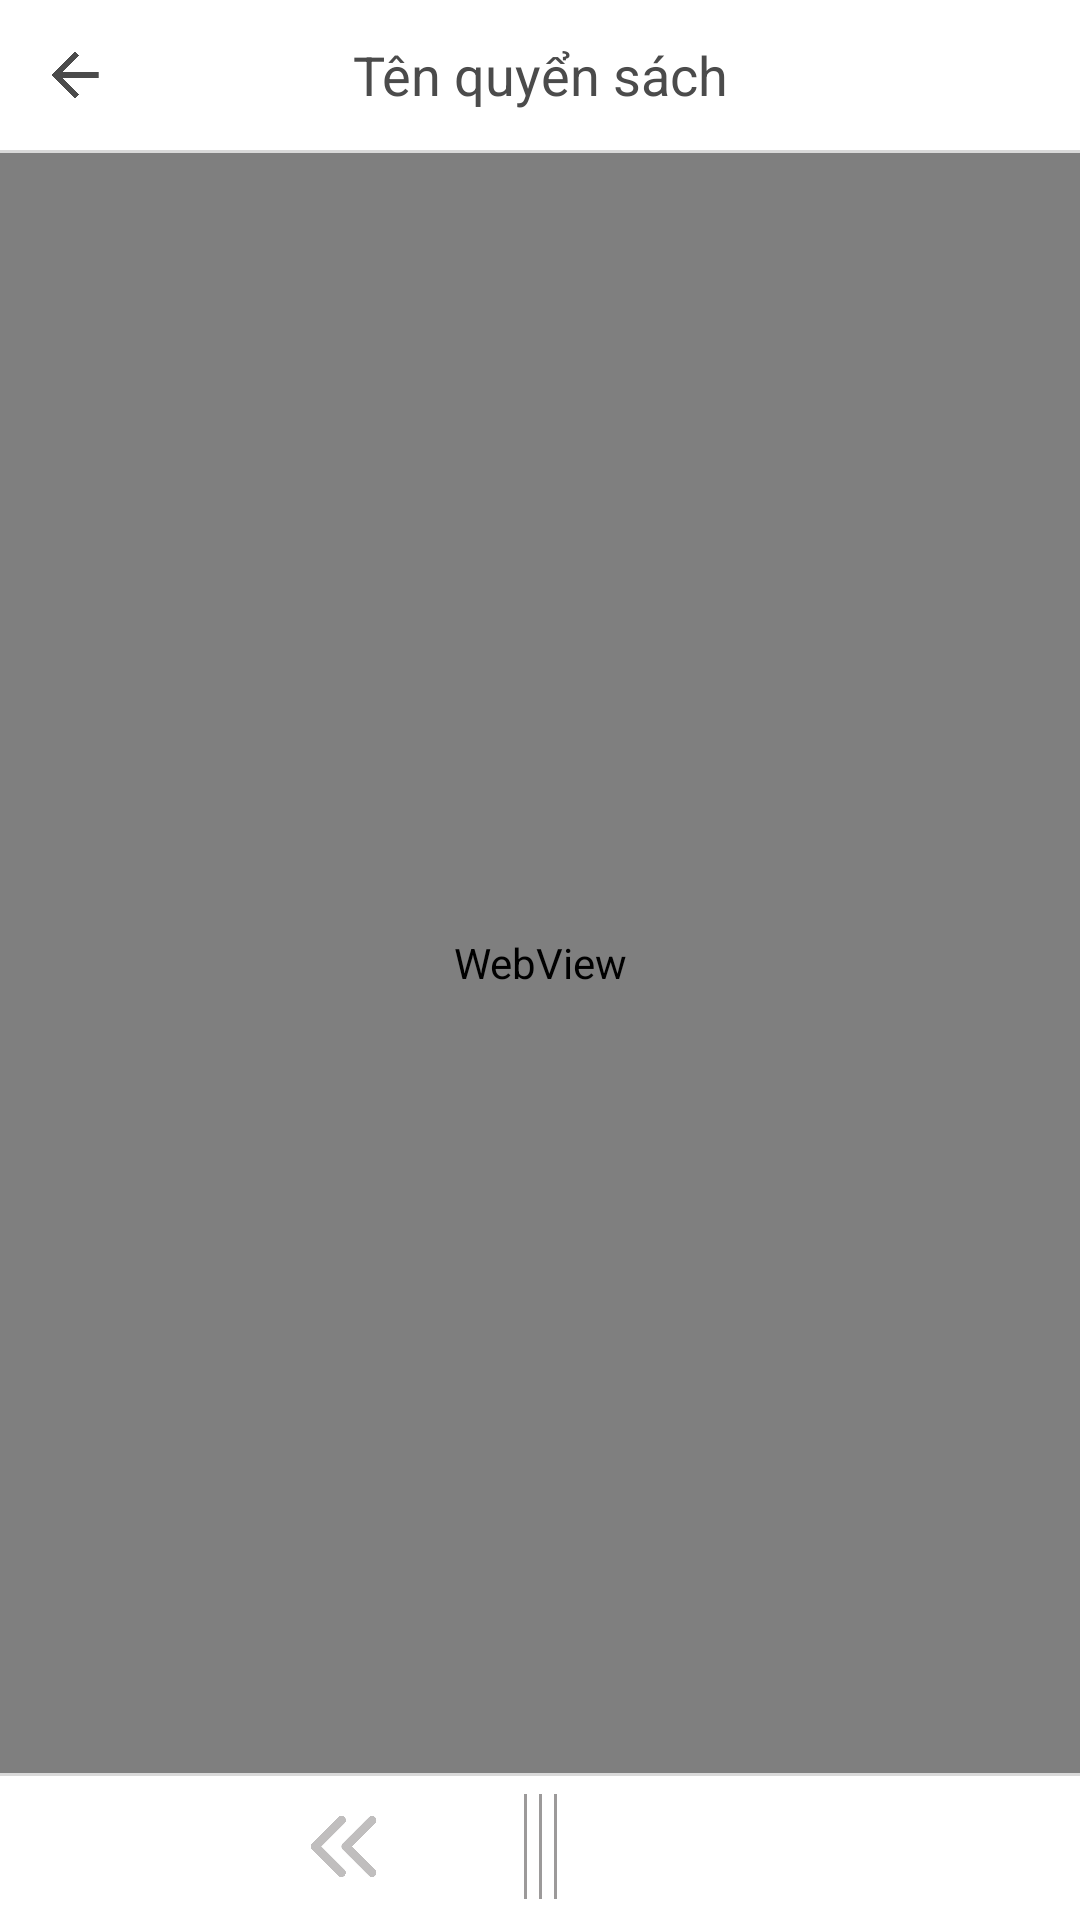

Icon click points for this 1080×1920 phone screenshot, format point (x, y):
back: point (75, 75)
previous: point (343, 1846)
